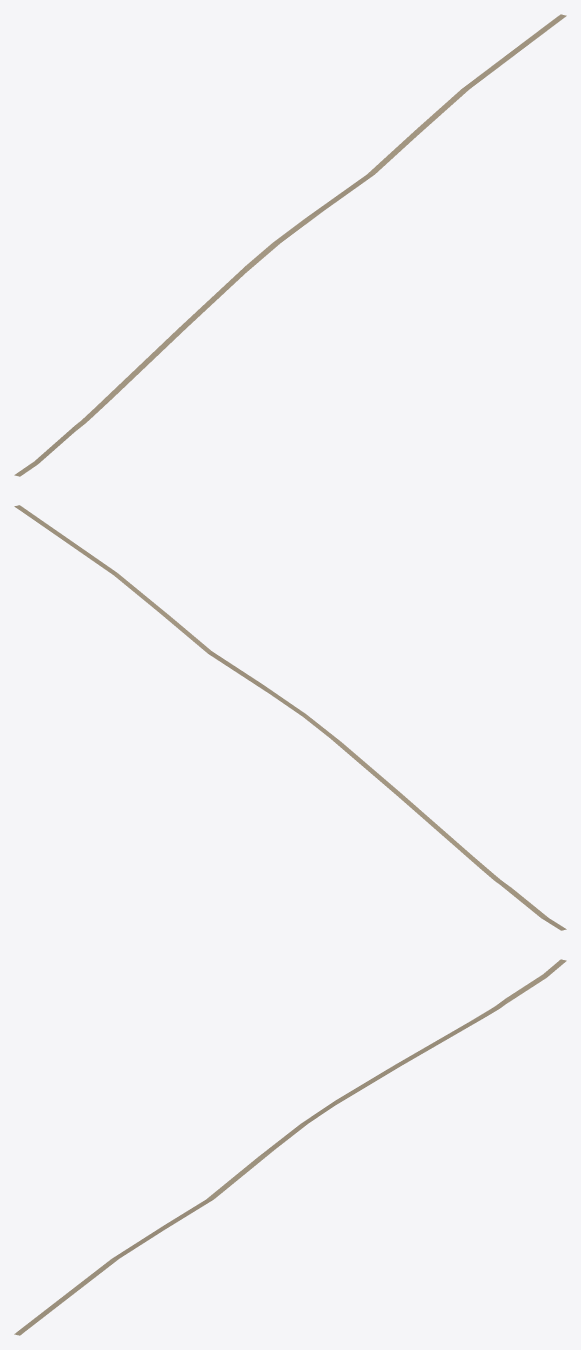
File: farm_9_1_track.glb
The picture shows the model from 3 angles, top to bottom: view 1: azimuth 90°, elevation 25°; view 2: azimuth 150°, elevation 25°; view 3: azimuth 270°, elevation 25°; orthographic projection. The views are drawn at different scales.
Visible parts, largest first — view 1: geometry_0; view 2: geometry_0; view 3: geometry_0.
Boxes of the visible parts, <box> form: geometry_0: <box>14,14,566,476</box>; geometry_0: <box>14,505,566,930</box>; geometry_0: <box>14,959,566,1335</box>.
Size of the model in its own units: 465 by 23.63 by 259.
